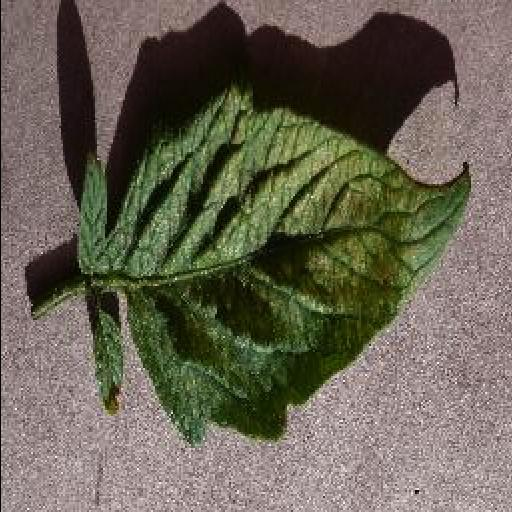disease_tomato: (113, 86, 471, 442)
